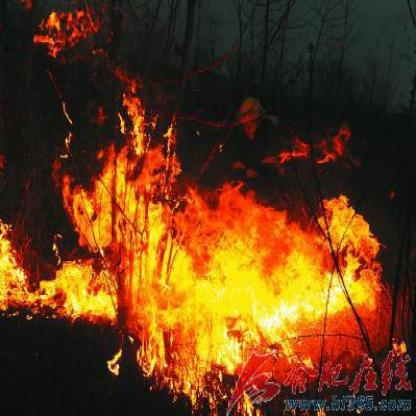fire: (9, 89, 394, 409), (30, 9, 92, 59)
other: (228, 337, 408, 403)
